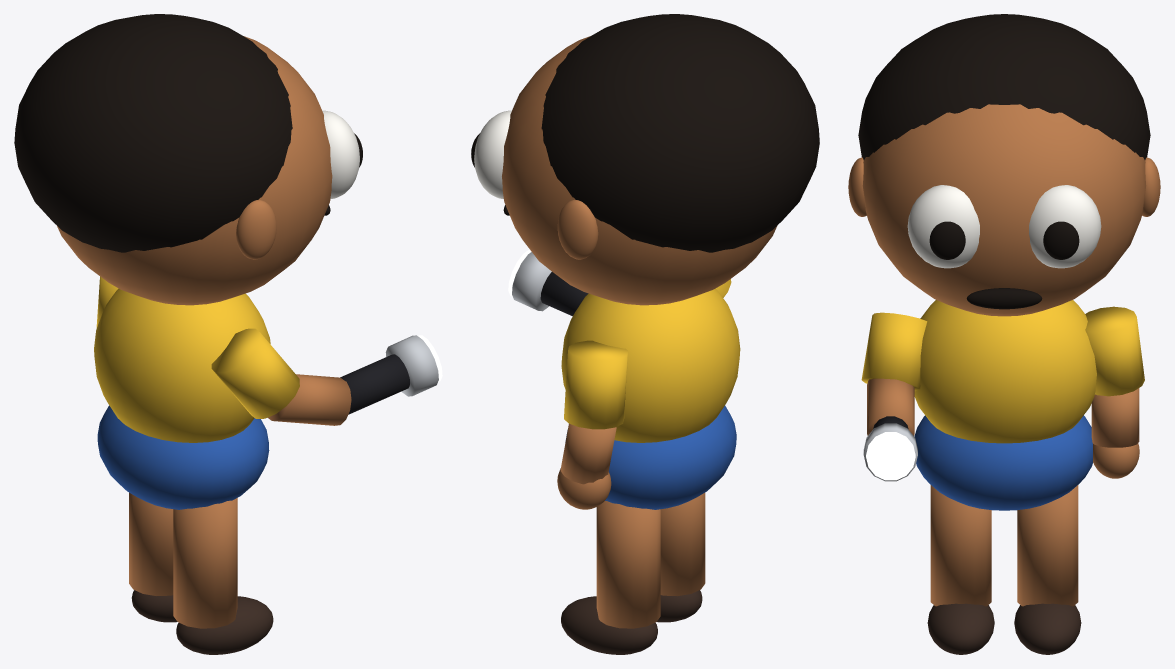
Rendered from child.glb.
The picture shows the model from 3 angles, left to right: view 1: azimuth 30°, elevation 25°; view 2: azimuth 150°, elevation 25°; view 3: azimuth 270°, elevation 25°; orthographic projection. The views are drawn at different scales.
Visible parts, largest first — view 1: Sphere.006, Sphere.003, Sphere.005, Sphere.002, Cylinder.001, Cylinder.004, Cylinder, Sphere.001, Cylinder.005, Cylinder.006, Sphere.007, Sphere.009 (+2 smaller); view 2: Sphere.006, Sphere.005, Sphere.003, Sphere.002, Cylinder, Cylinder.002, Cylinder.001, Sphere, Cylinder.003, Sphere.010, Sphere.012, Cylinder.007 (+3 smaller); view 3: Sphere.005, Sphere.006, Sphere.003, Sphere.002, Cylinder, Cylinder.001, Cylinder.002, Cylinder.004, Sphere.007, Sphere.010, Sphere, Sphere.001 (+10 smaller).
Boxes of the visible parts, <box> form: Sphere.006: <box>14,14,292,252</box>; Sphere.003: <box>94,288,270,442</box>; Sphere.005: <box>57,36,332,305</box>; Sphere.002: <box>97,405,269,509</box>; Cylinder.001: <box>173,498,237,628</box>; Cylinder.004: <box>211,328,299,418</box>; Cylinder: <box>129,492,173,595</box>; Sphere.001: <box>176,596,273,654</box>; Cylinder.005: <box>268,374,351,425</box>; Cylinder.006: <box>340,354,409,414</box>; Sphere.007: <box>322,110,359,199</box>; Sphere.009: <box>236,199,276,259</box>; Sphere.006: <box>541,14,819,252</box>; Sphere.005: <box>502,36,777,305</box>; Sphere.003: <box>561,288,740,442</box>; Sphere.002: <box>565,405,736,509</box>; Cylinder: <box>596,501,660,628</box>; Cylinder.002: <box>564,340,628,429</box>; Cylinder.001: <box>660,493,705,596</box>; Sphere: <box>561,596,657,654</box>; Cylinder.003: <box>560,423,616,484</box>; Sphere.010: <box>474,110,511,199</box>; Sphere.012: <box>557,199,598,259</box>; Cylinder.007: <box>512,252,551,311</box>; Sphere.005: <box>862,104,1146,316</box>; Sphere.006: <box>858,14,1150,159</box>; Sphere.003: <box>914,300,1096,443</box>; Sphere.002: <box>914,415,1092,510</box>; Cylinder: <box>1017,485,1078,606</box>; Cylinder.001: <box>930,485,991,606</box>; Cylinder.002: <box>1085,306,1144,396</box>; Cylinder.004: <box>861,312,927,391</box>; Sphere.007: <box>907,185,979,268</box>; Sphere.010: <box>1029,185,1101,268</box>; Sphere: <box>1014,603,1081,654</box>; Sphere.001: <box>927,603,994,654</box>.
Size of the model in its own units: 0.7088 by 1.22 by 0.577.
